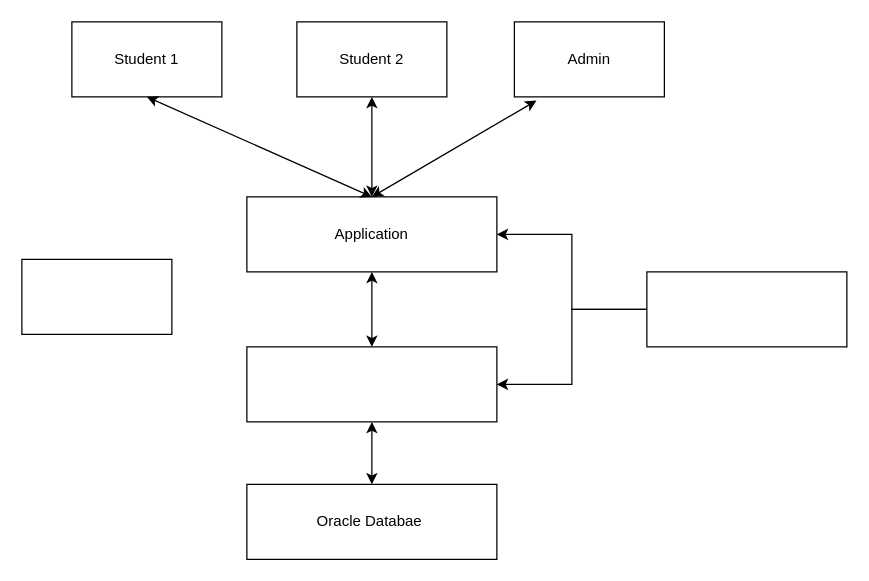
Image size: 869x581. Some labels were removed from this diagram. Here are the shapes that lost their labels. From the top down, the box of each, then its label:
(21, 258, 172, 334): Django Framework
(646, 271, 847, 347): Developer/Database-Administrator
(246, 346, 497, 422): Database Management System
